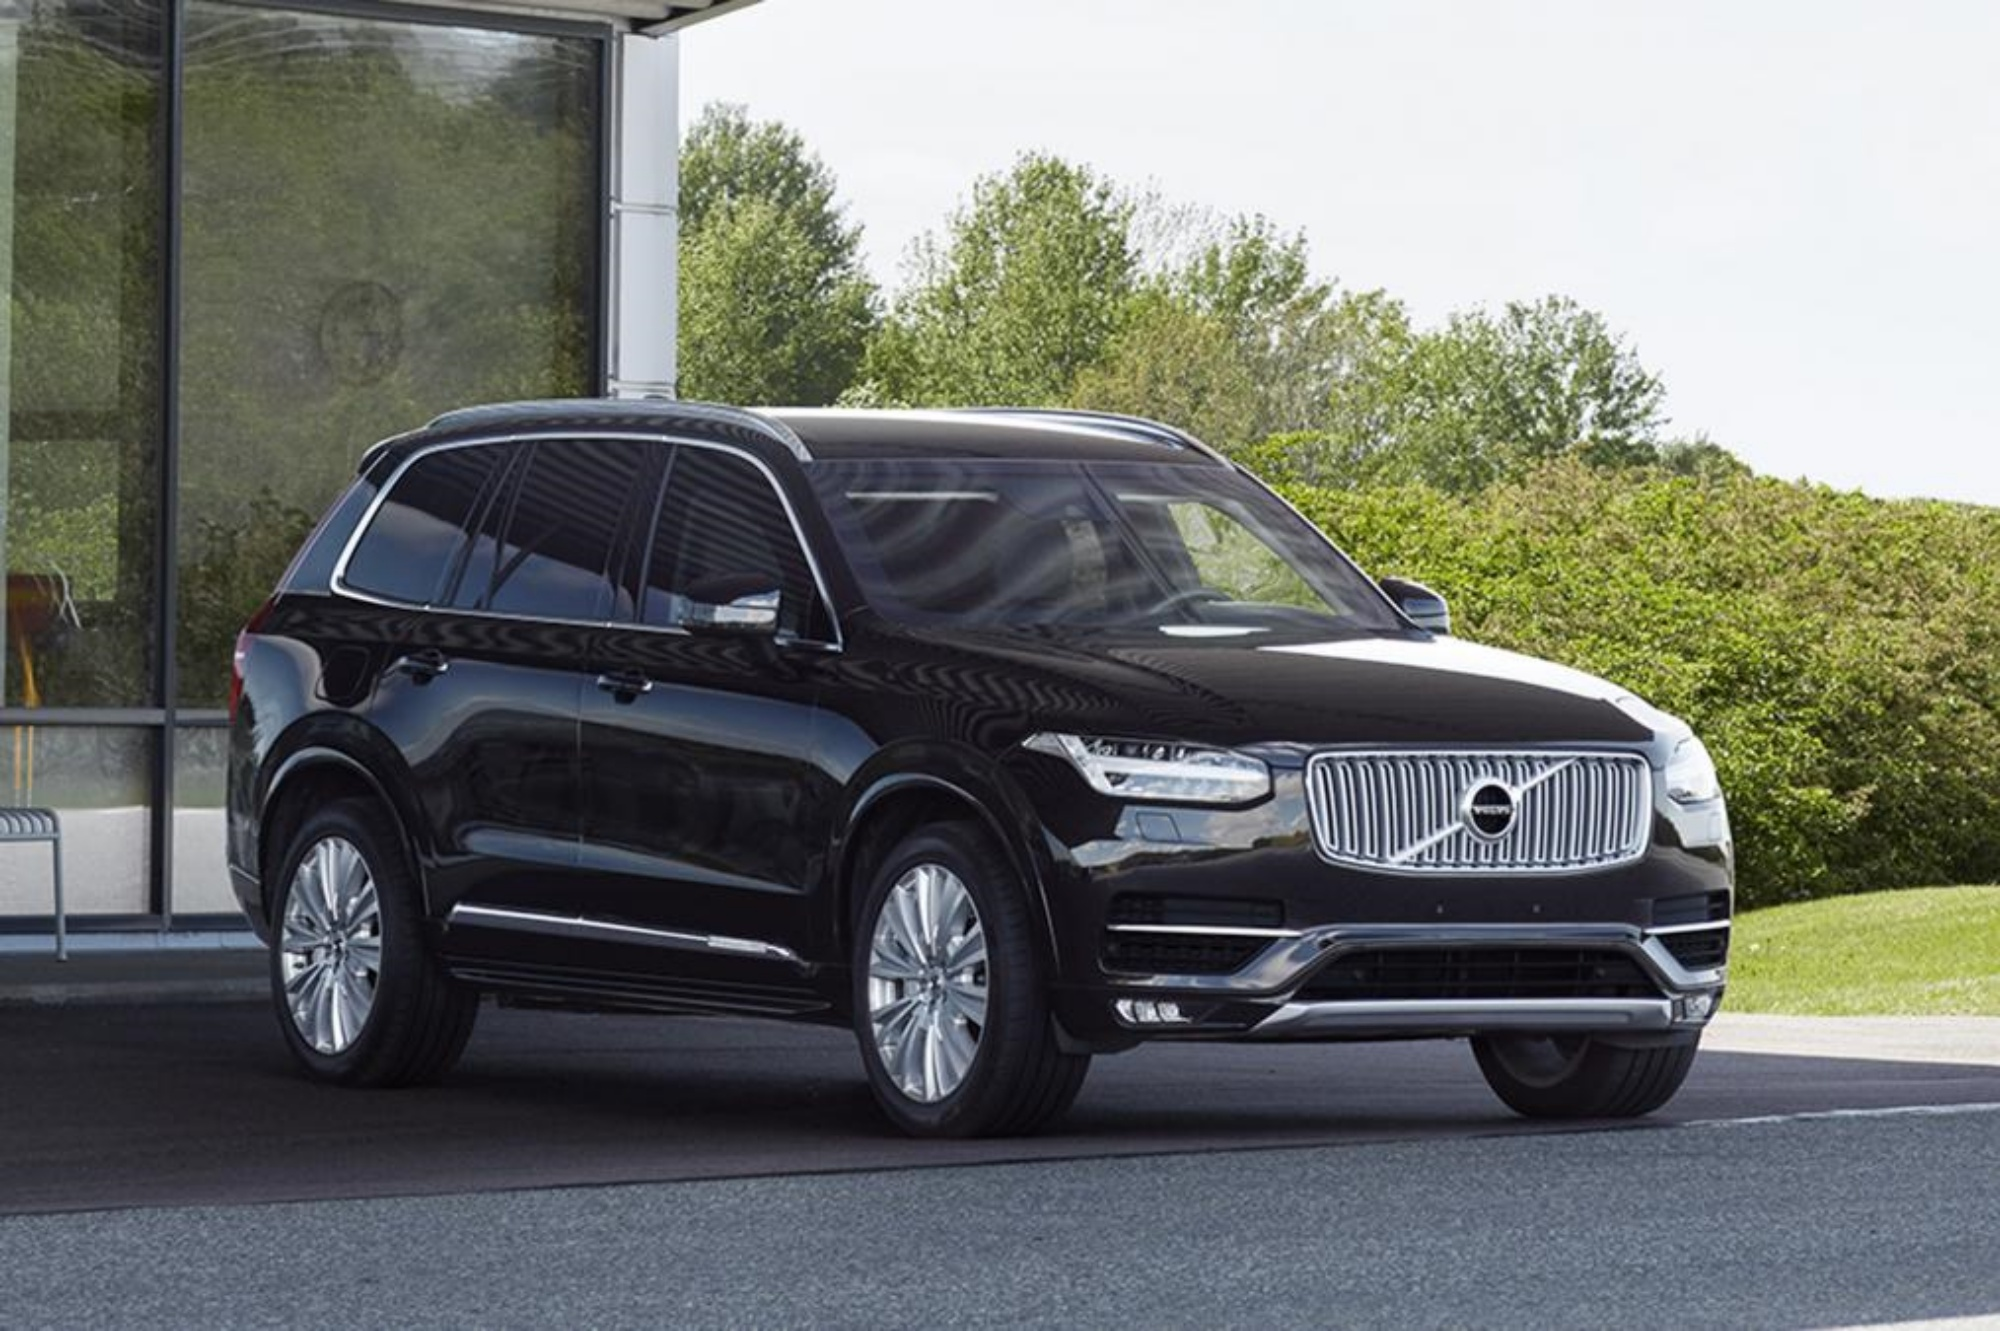pickup: (215, 389, 1737, 1138)
